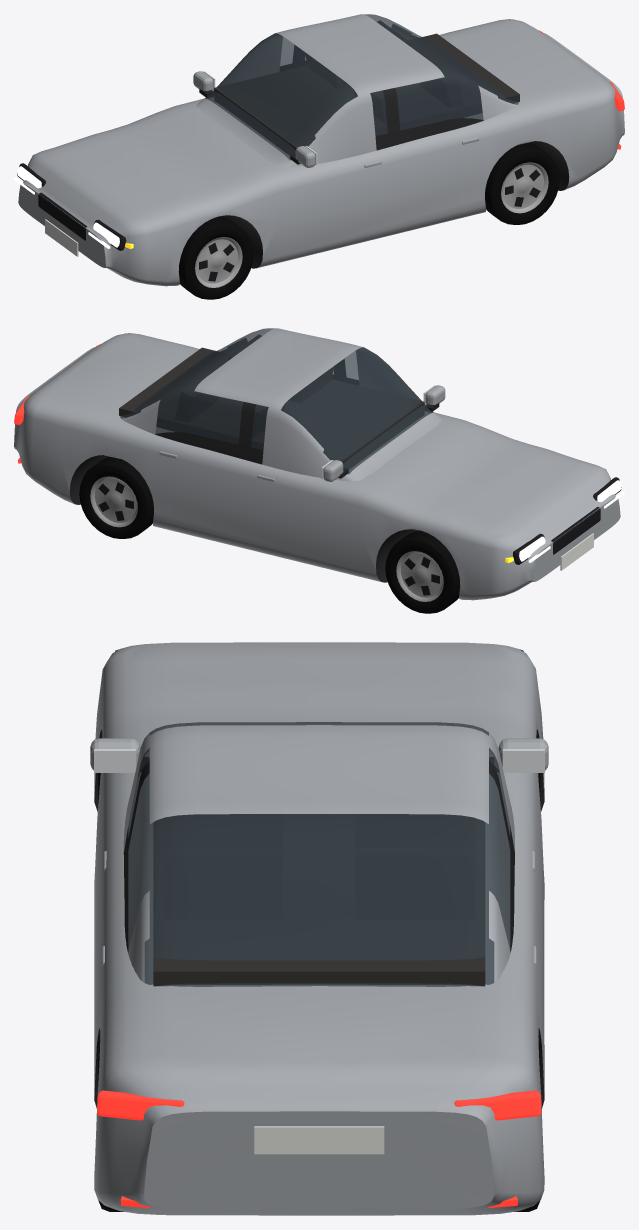
The model's file is sedan.glb.
3 renders of one model, top to bottom at view 1: azimuth 30°, elevation 25°; view 2: azimuth 150°, elevation 25°; view 3: azimuth 270°, elevation 25°, orthographic. The views are drawn at different scales.
Parts seen in each view (by area): view 1: sedan-body, wheel-fr, wheel-rr; view 2: sedan-body, wheel-fl, wheel-rl; view 3: sedan-body.
Part boxes in pixels (x1=…): sedan-body: x1=14, y1=14, x2=624, y2=286; wheel-fr: x1=178, y1=217, x2=253, y2=299; wheel-rr: x1=485, y1=143, x2=559, y2=224; sedan-body: x1=14, y1=328, x2=624, y2=600; wheel-fl: x1=385, y1=531, x2=460, y2=613; wheel-rl: x1=79, y1=457, x2=153, y2=538; sedan-body: x1=90, y1=642, x2=548, y2=1215.
Size of the model in its own units: 4.82 by 1.45 by 1.84.
Materials: 13 (2 with a texture image).
